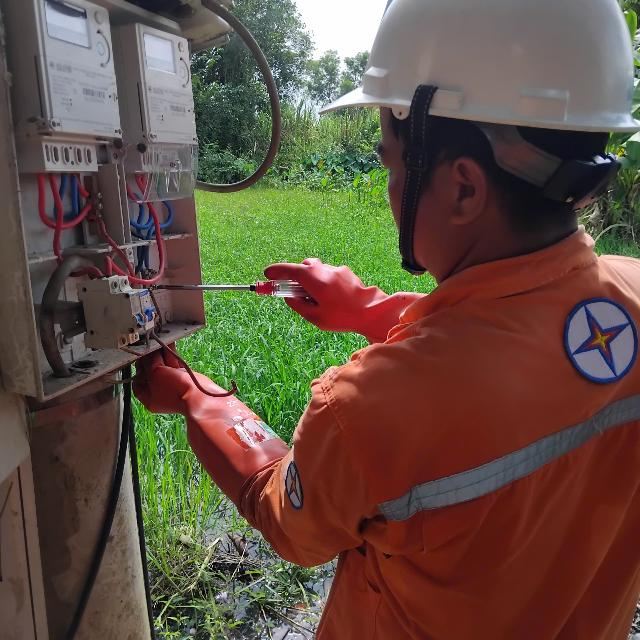gloves: (132, 346, 301, 524), (262, 252, 424, 339)
helmet: (302, 2, 640, 182)
